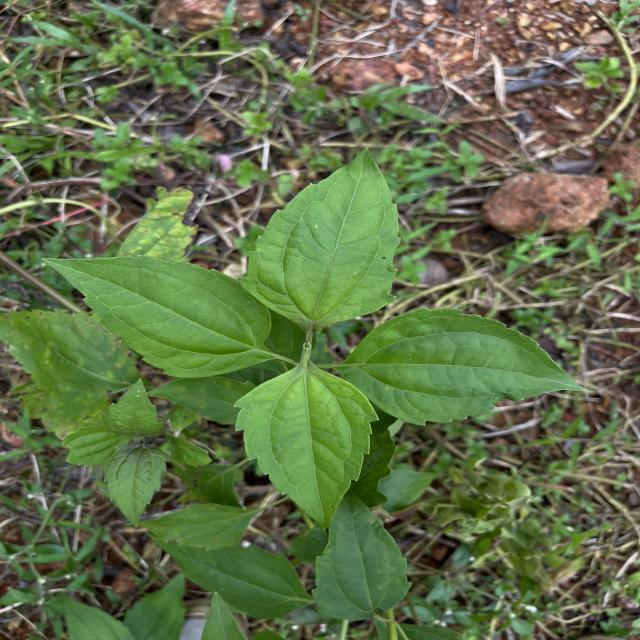Chromolaena odorata: (334, 304, 592, 429), (235, 144, 405, 332), (36, 252, 278, 380), (228, 358, 382, 534)
